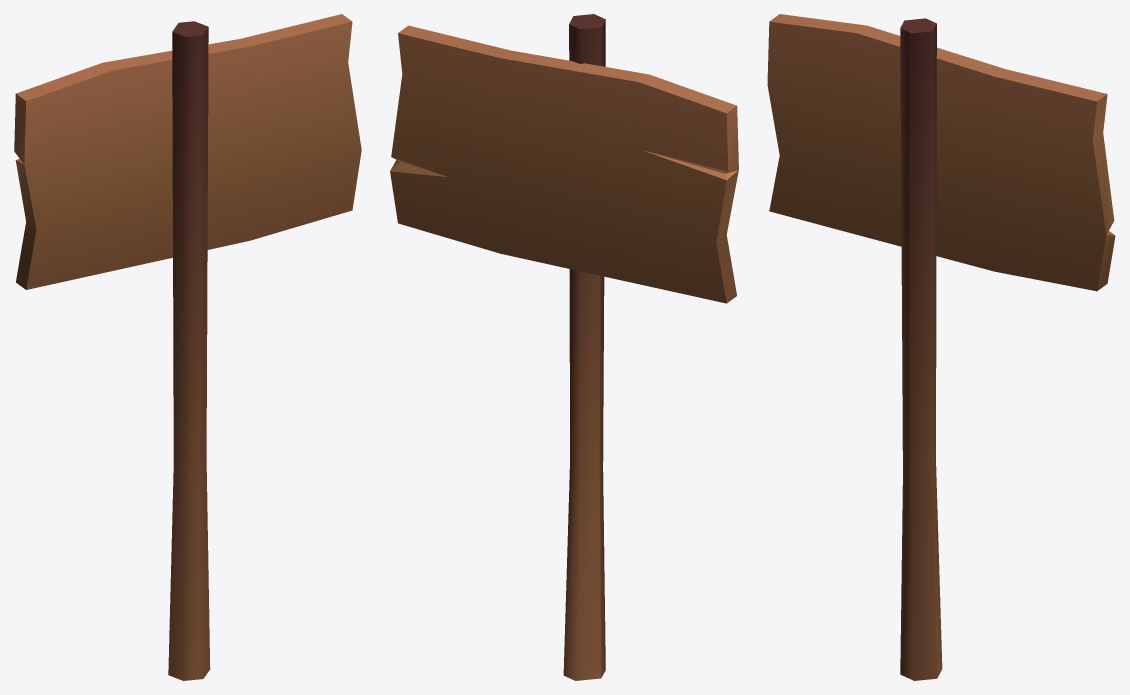
Rendered from WoodenSign.fbx.
The picture shows the model from 3 angles, left to right: view 1: azimuth 30°, elevation 25°; view 2: azimuth 150°, elevation 25°; view 3: azimuth 330°, elevation 25°; orthographic projection.
Visible parts, largest first — view 1: WoodenSign; view 2: WoodenSign; view 3: WoodenSign.
Boxes of the visible parts, bbox=[...] form: WoodenSign: bbox=[14, 14, 361, 680]; WoodenSign: bbox=[390, 14, 738, 680]; WoodenSign: bbox=[767, 14, 1115, 680].
Size of the model in its own units: 60.6 by 111 by 8.57.
